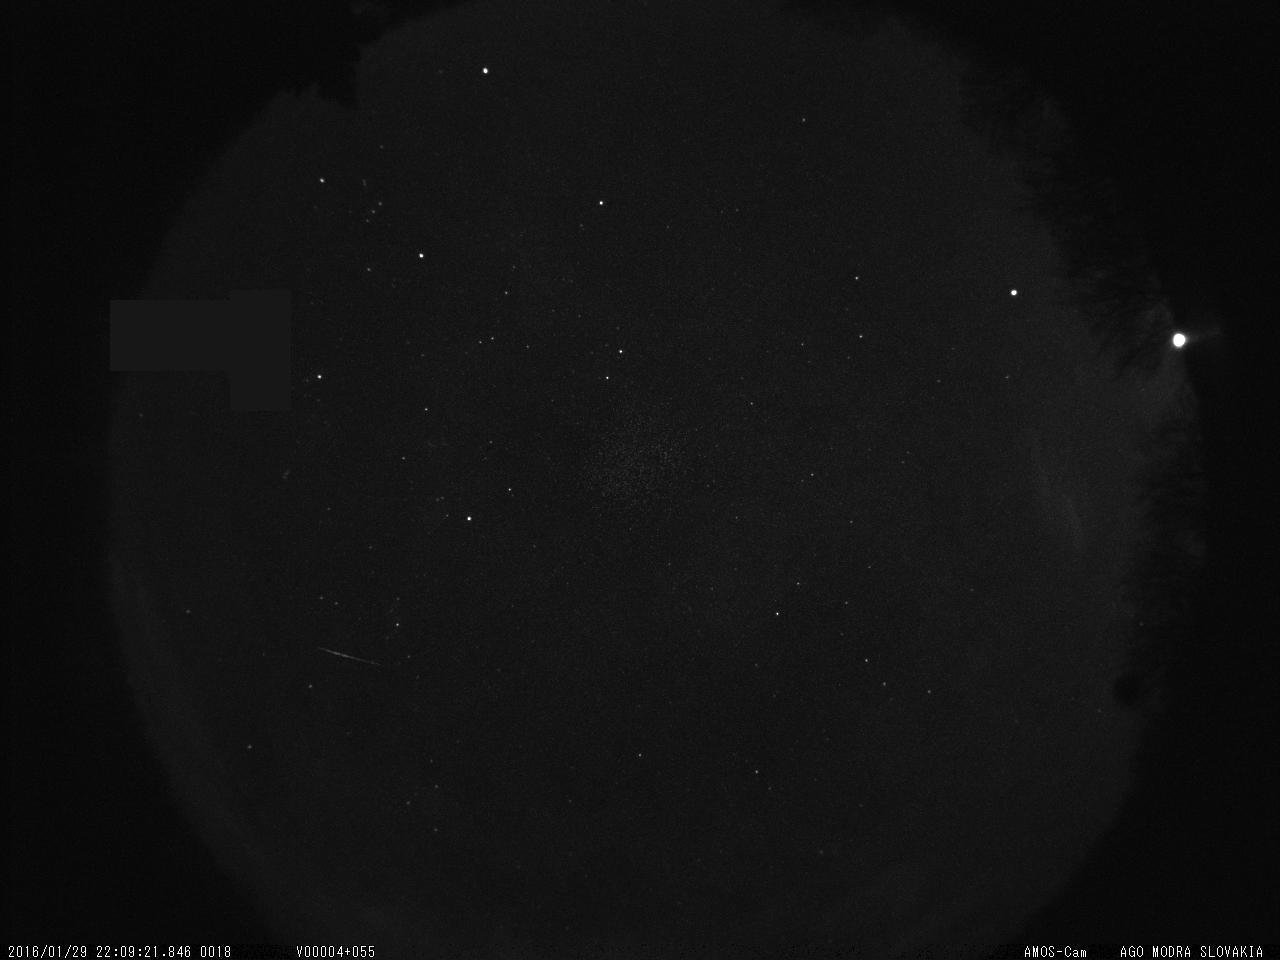meteor: (305, 627, 397, 684)
